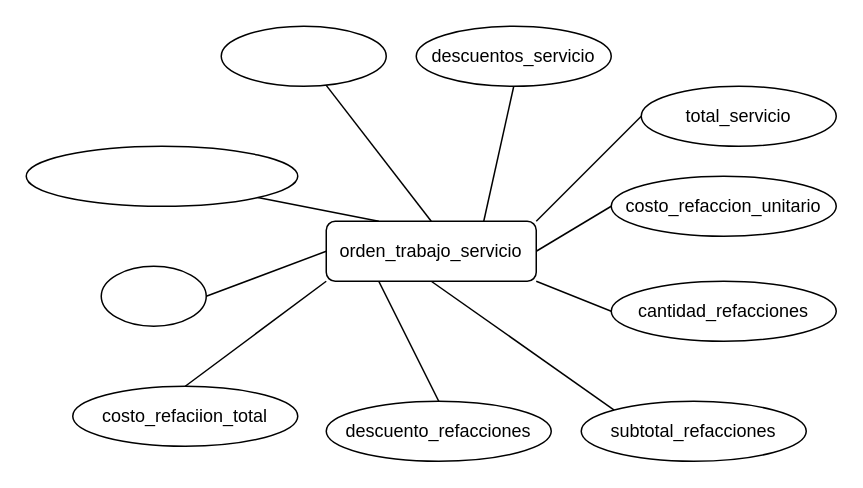
This 863x488 diagram has some shape labels left out. Here are the shapes that lost their labels. From the top down, the centre of each, then its label:
At point (303, 55): "subtotal_servicio".
At point (161, 175): "id_orden_trabajo_servicio_id".
At point (153, 295): "total".
